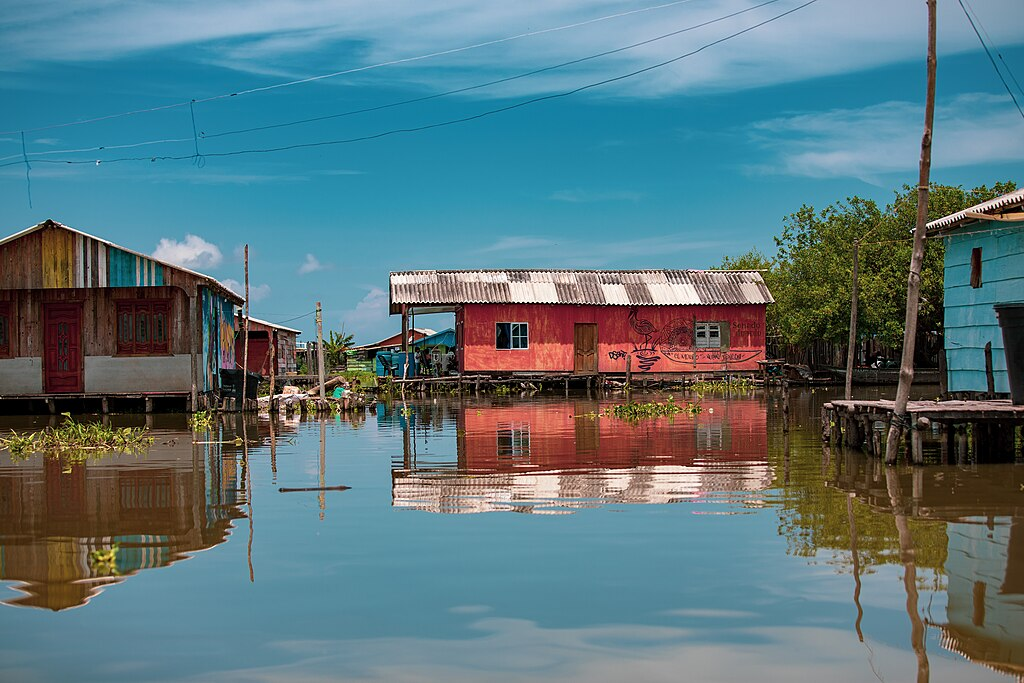House: (4, 213, 291, 420), (840, 186, 1021, 456), (390, 266, 779, 388)
